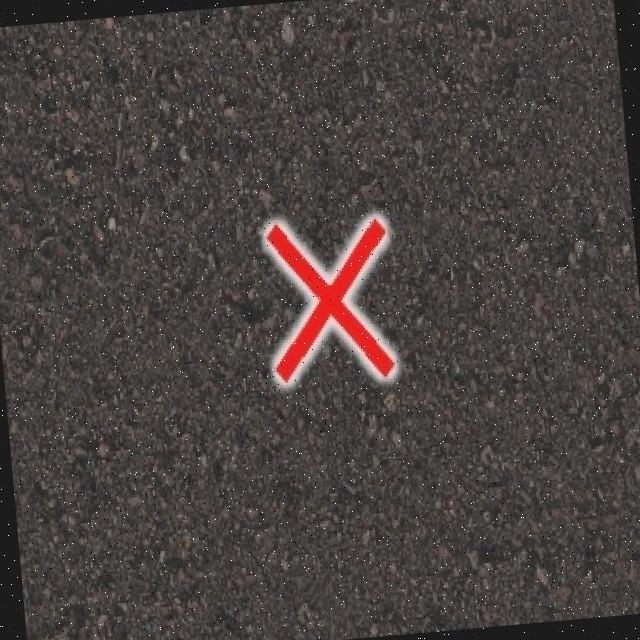x_marker: (262, 214, 396, 384)
